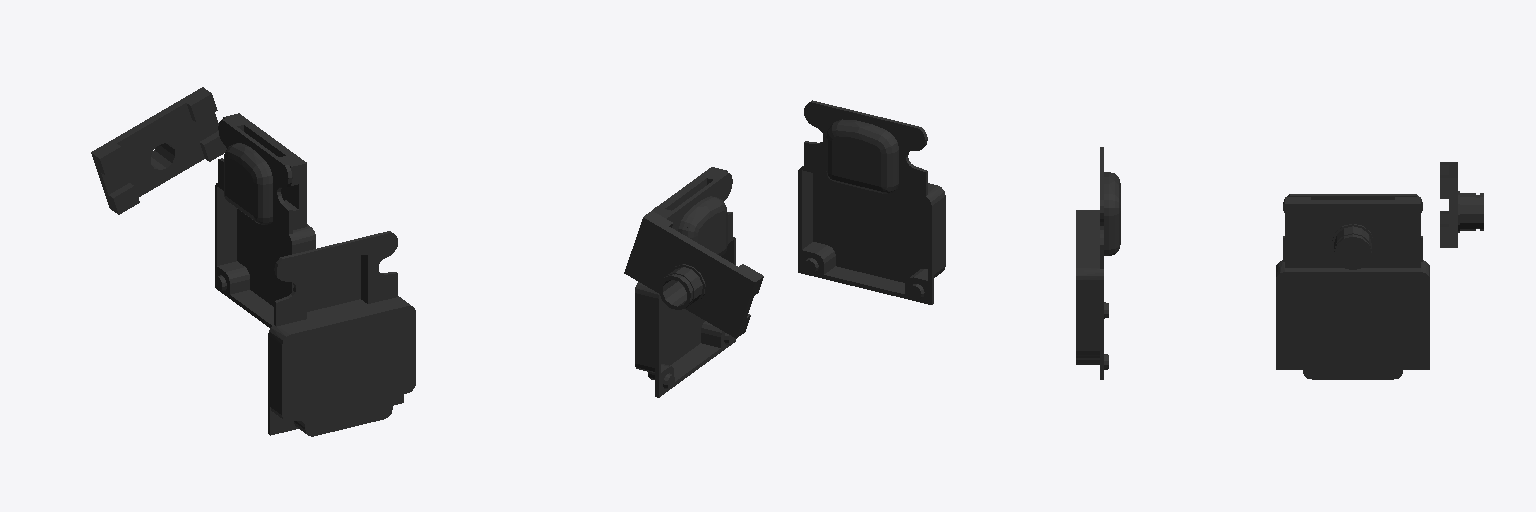
File: Dual_Servo_Al_022_3_mesh_2.obj
3 views of the same model, side by side, from view 1: azimuth 30°, elevation 25°; view 2: azimuth 150°, elevation 25°; view 3: azimuth 270°, elevation 25° (orthographic).
Bounding box in the file's own units: 0.0375 × 0.0447 × 0.0869.